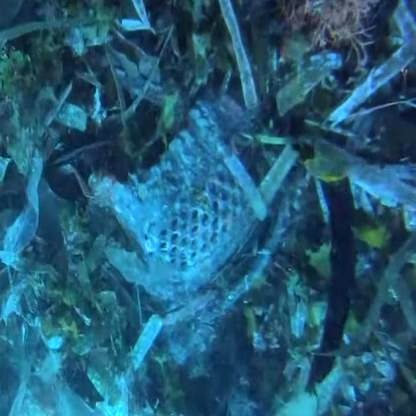misc: (97, 110, 263, 305)
